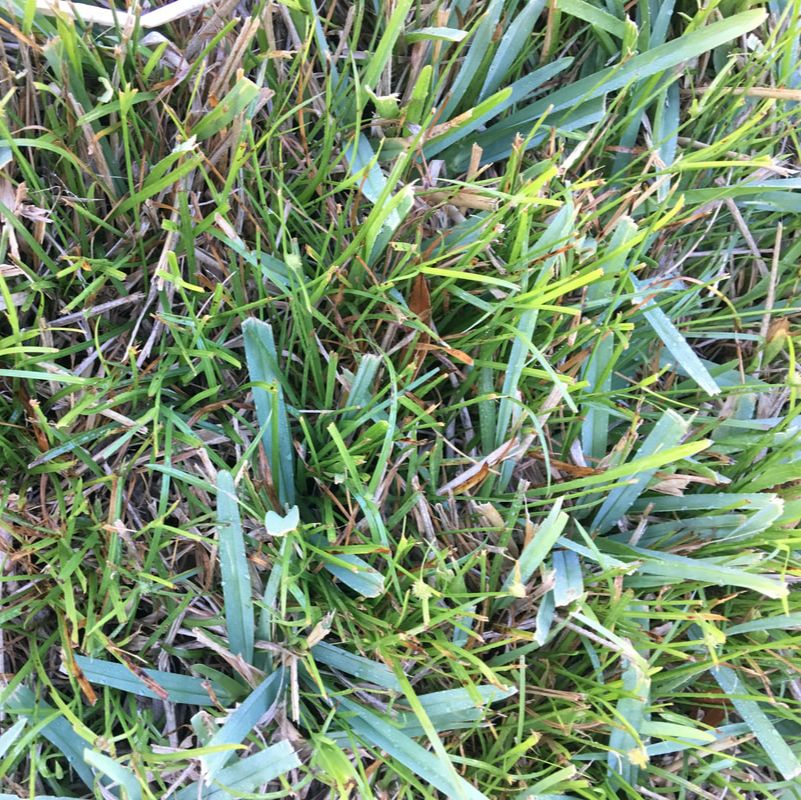crabgrass: (519, 278, 755, 591), (149, 576, 442, 800)
